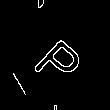P_NE: (28, 26, 90, 88)
